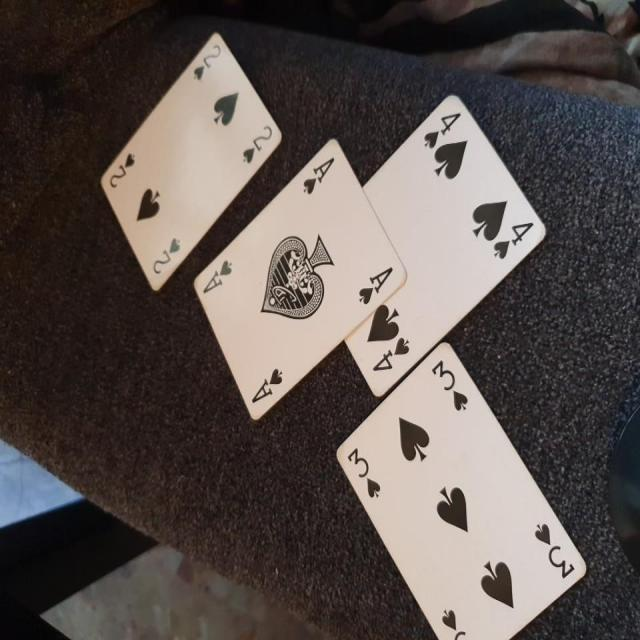2 Spades: (90, 27, 285, 300)
3 Spades: (334, 333, 597, 640)
4 Spades: (329, 84, 553, 402)
A Spades: (184, 136, 405, 430)
